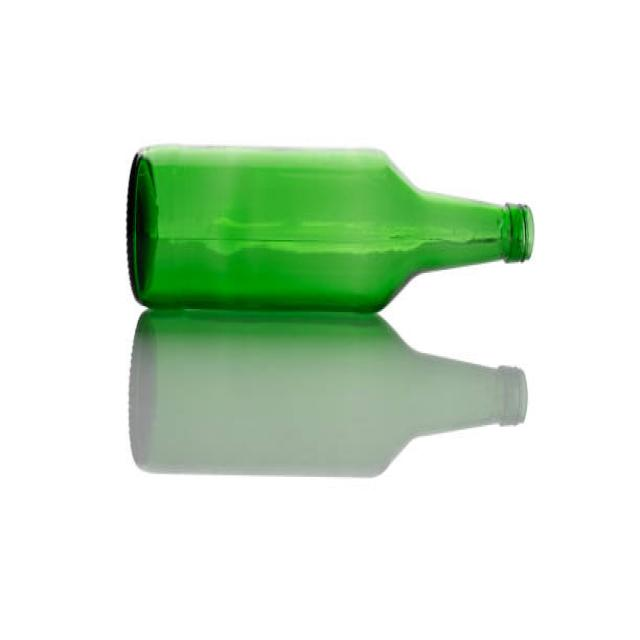electronic: (125, 139, 534, 324)
